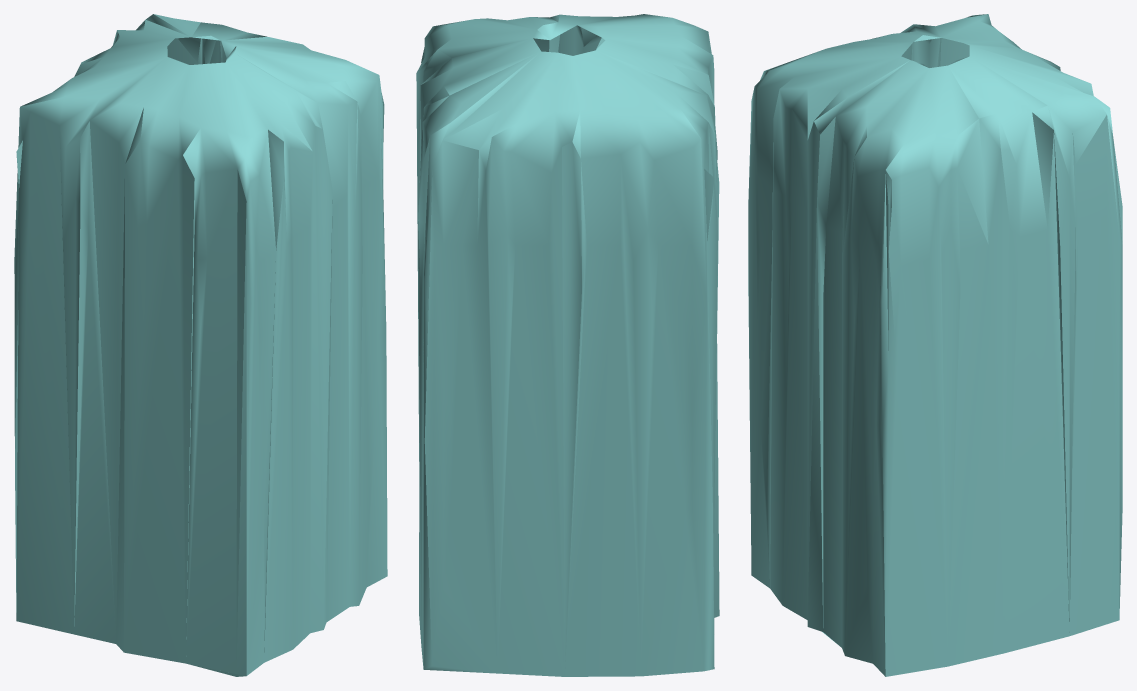
File: Vase0007.obj
3 renders of one model, left to right at view 1: azimuth 30°, elevation 25°; view 2: azimuth 150°, elevation 25°; view 3: azimuth 270°, elevation 25°, orthographic. The views are drawn at different scales.
Size of the model in its own units: 0.12 by 0.195 by 0.12.
1 material, 1 textured.
